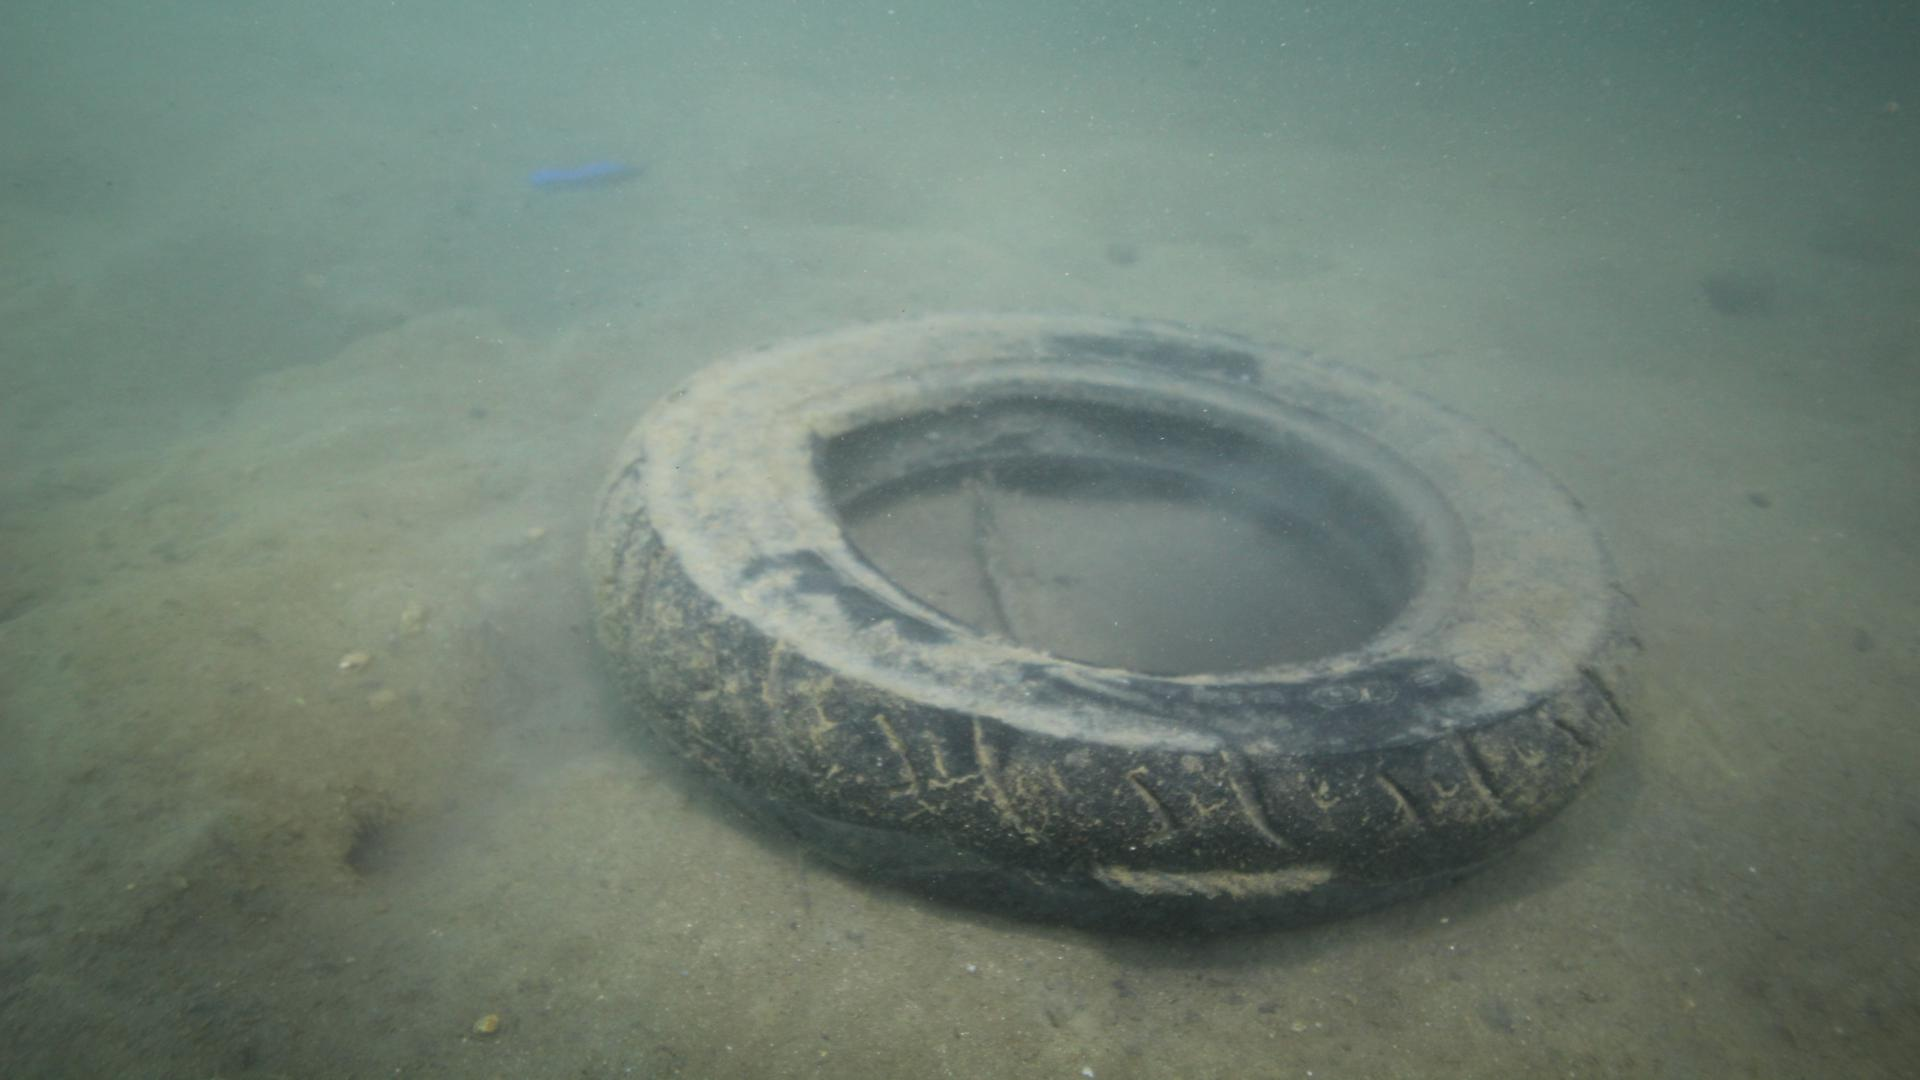rope: (972, 491, 1039, 650)
tire: (582, 309, 1646, 930)
